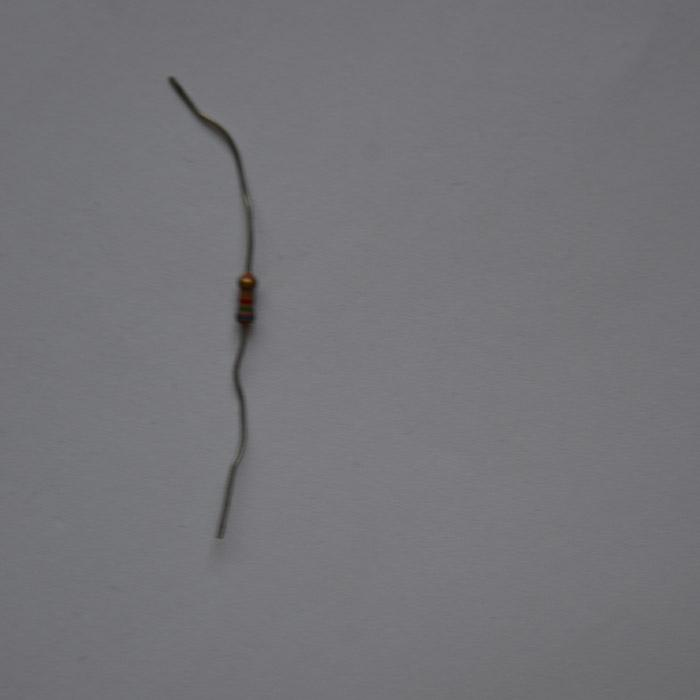resistor: (236, 272, 257, 324)
